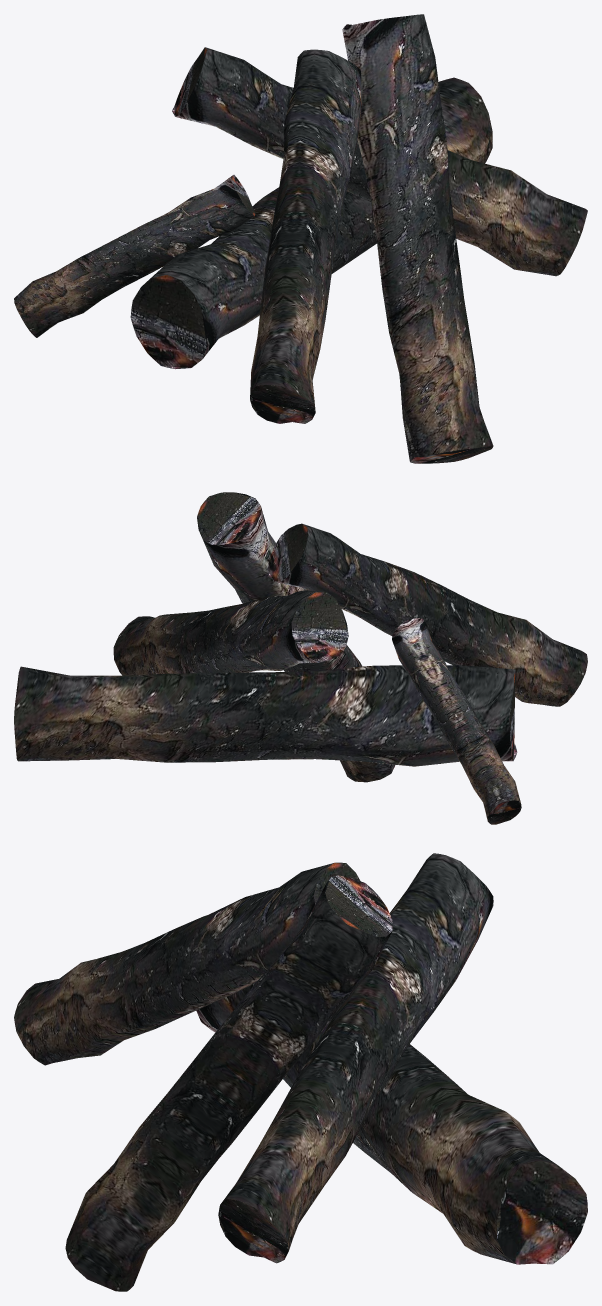
File: hammock3Defoult4.gltf
The picture shows the model from 3 angles, top to bottom: view 1: azimuth 30°, elevation 25°; view 2: azimuth 150°, elevation 25°; view 3: azimuth 270°, elevation 25°; orthographic projection. The views are drawn at different scales.
Visible parts, largest first — view 1: hammock3Defoult4; view 2: hammock3Defoult4; view 3: hammock3Defoult4.
Part boxes in pixels (x1,y1,x2,y2): hammock3Defoult4: [14, 14, 587, 463]; hammock3Defoult4: [14, 492, 587, 824]; hammock3Defoult4: [14, 853, 587, 1291].
Size of the model in its own units: 1.46 by 1.01 by 1.25.
Materials: 1 (1 with a texture image).
